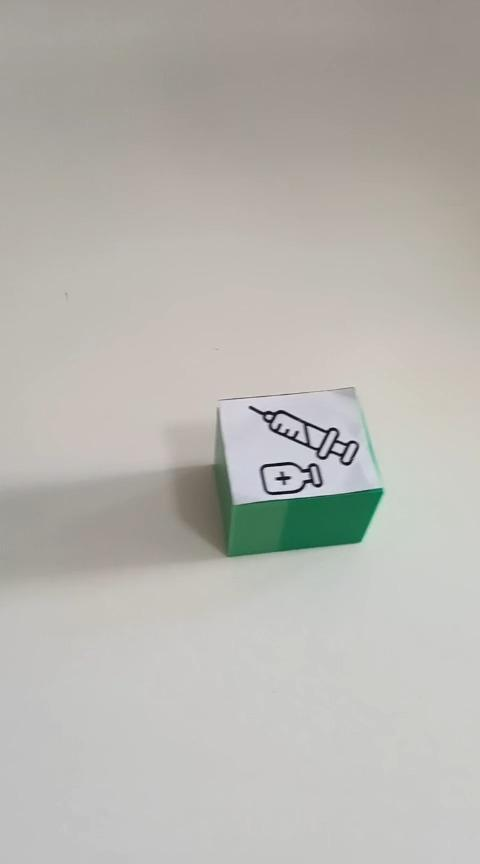antiseptic cream: (212, 385, 384, 557)
